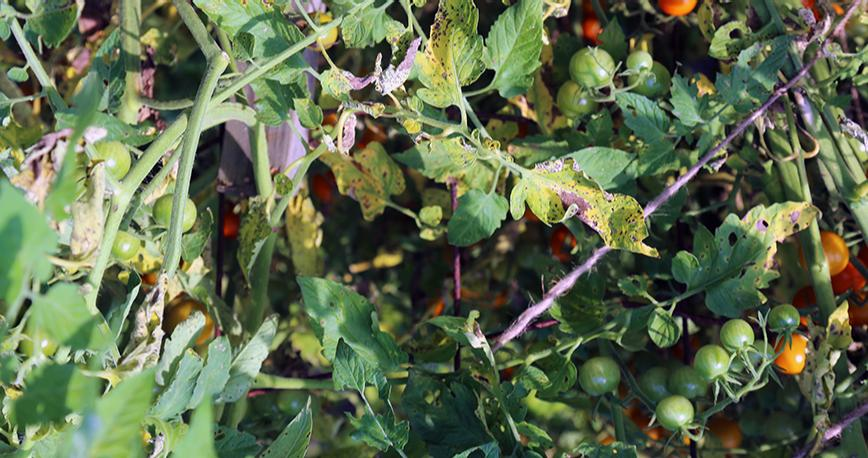Tomato Early blight leaf: (506, 154, 663, 258), (673, 201, 812, 312), (301, 274, 400, 373), (417, 0, 486, 106), (195, 0, 317, 50), (326, 145, 404, 214), (395, 139, 483, 182)
Tomato leaf: (480, 0, 549, 95)
